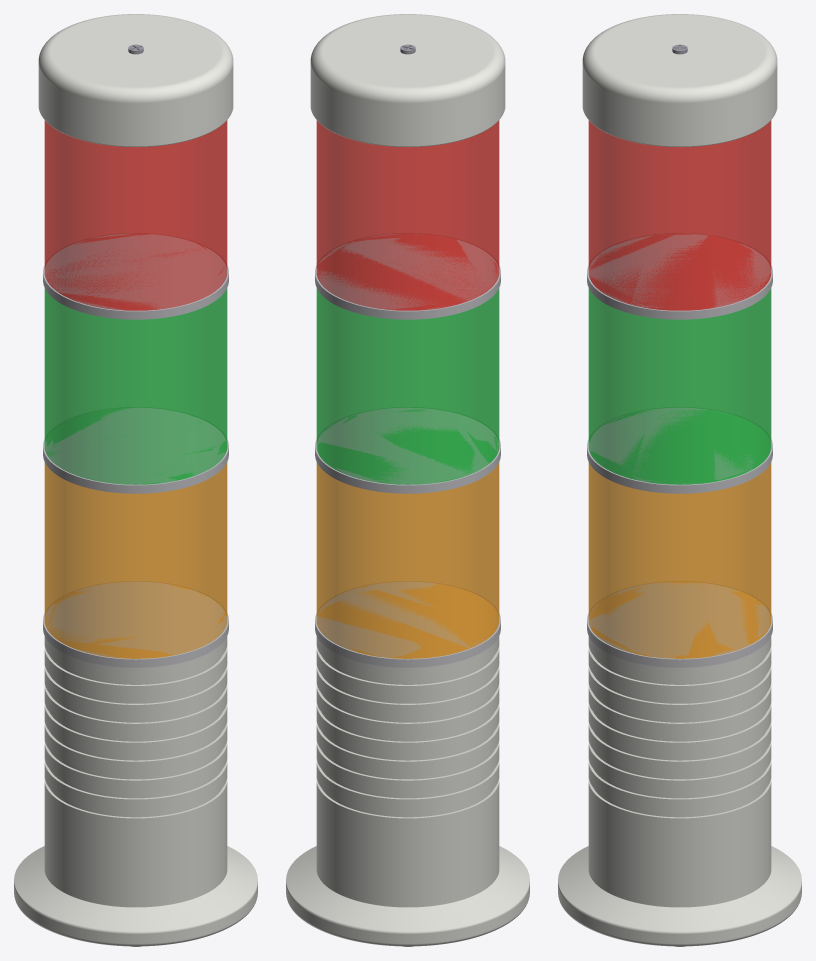
Rendered from tower_light.glb.
3 views of the same model, side by side, from view 1: azimuth 30°, elevation 25°; view 2: azimuth 150°, elevation 25°; view 3: azimuth 270°, elevation 25° (orthographic).
Visible parts, largest first — view 1: lower_body, dome_green, dome_yellow, dome_red, top_cap, ring_middle, ring_bottom, ring_upper, flange; view 2: lower_body, dome_green, dome_yellow, dome_red, top_cap, ring_middle, ring_bottom, ring_upper, flange; view 3: lower_body, dome_green, dome_yellow, dome_red, top_cap, ring_middle, ring_bottom, ring_upper, flange.
Part boxes in pixels (x1,y1,x2,y2): lower_body: (14,636,257,931); dome_green: (44,288,227,484); dome_yellow: (44,462,227,658); dome_red: (44,120,227,310); top_cap: (38,14,233,146); ring_middle: (43,407,228,493); ring_bottom: (43,581,228,667); ring_upper: (43,233,228,319); flange: (14,882,257,946); lower_body: (286,636,529,931); dome_green: (316,288,499,484); dome_yellow: (316,462,499,658); dome_red: (316,120,499,310); top_cap: (310,14,505,146); ring_middle: (315,407,500,493); ring_bottom: (315,581,500,667); ring_upper: (315,233,500,319); flange: (286,882,529,946); lower_body: (558,636,801,931); dome_green: (588,288,771,484); dome_yellow: (588,462,771,658); dome_red: (588,120,771,310); top_cap: (582,14,777,146); ring_middle: (587,407,772,493); ring_bottom: (587,581,772,667); ring_upper: (587,233,772,319); flange: (558,882,801,946).
Bounding box in the file's own units: 80 × 310 × 79.98.
